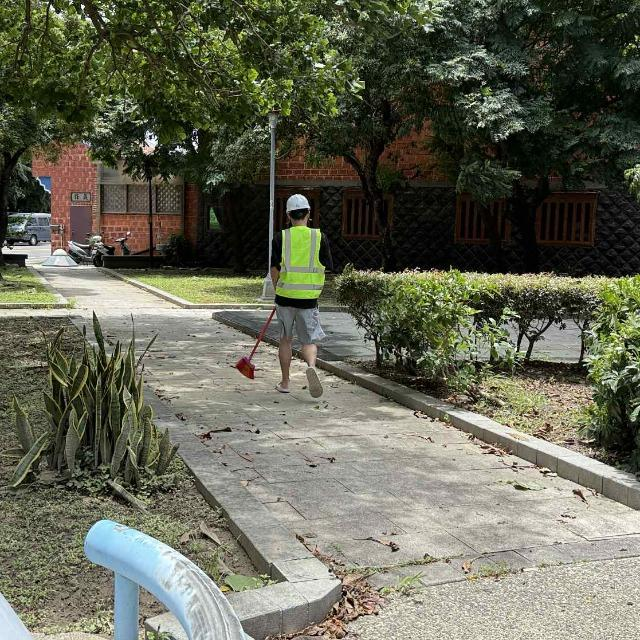Vest: (270, 225, 332, 305)
